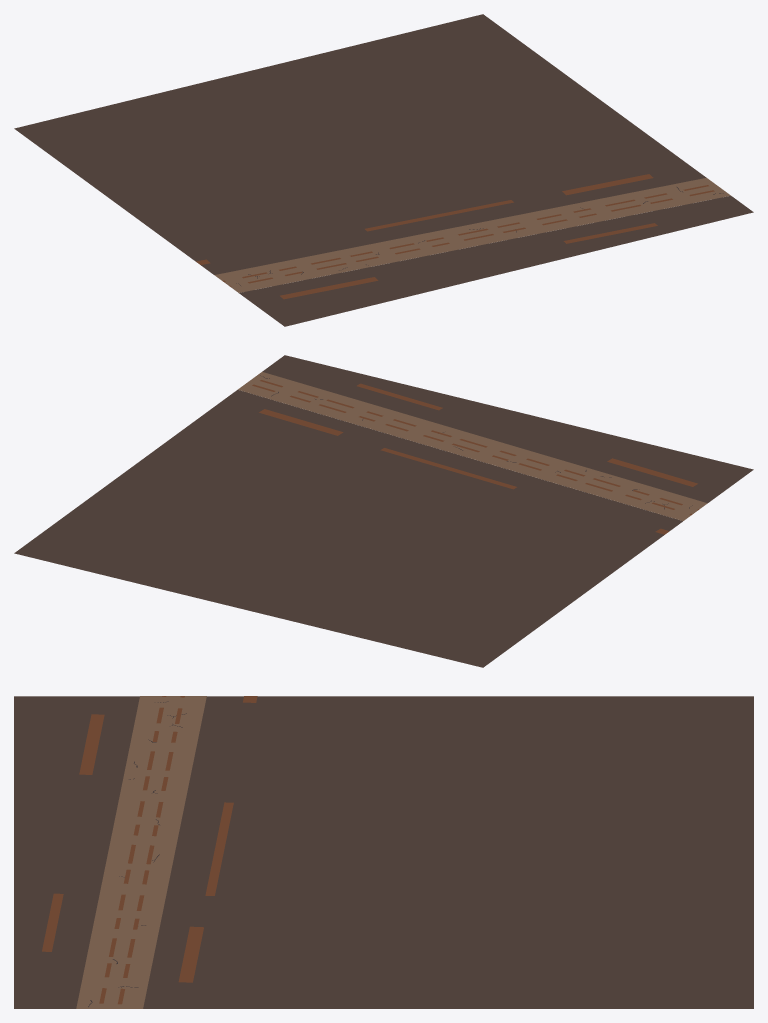
The model's file is crossing-8-3.glb.
3 renders of one model, top to bottom at view 1: azimuth 30°, elevation 25°; view 2: azimuth 150°, elevation 25°; view 3: azimuth 270°, elevation 25°, orthographic. The views are drawn at different scales.
Visible parts, largest first — view 1: crossing-8-3; view 2: crossing-8-3; view 3: crossing-8-3.
Part boxes in pixels (x1,y1,x2,y2): crossing-8-3: (14, 14, 753, 326); crossing-8-3: (14, 355, 753, 667); crossing-8-3: (14, 696, 753, 1008).
Bounding box in the file's own units: 100 × 0.0135 × 100.
